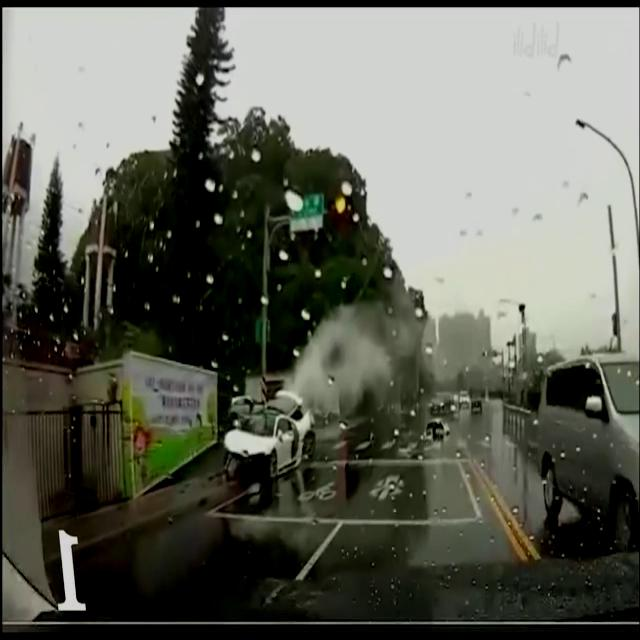accident: (223, 392, 315, 478)
